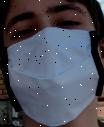with_mask: (1, 1, 104, 127)
